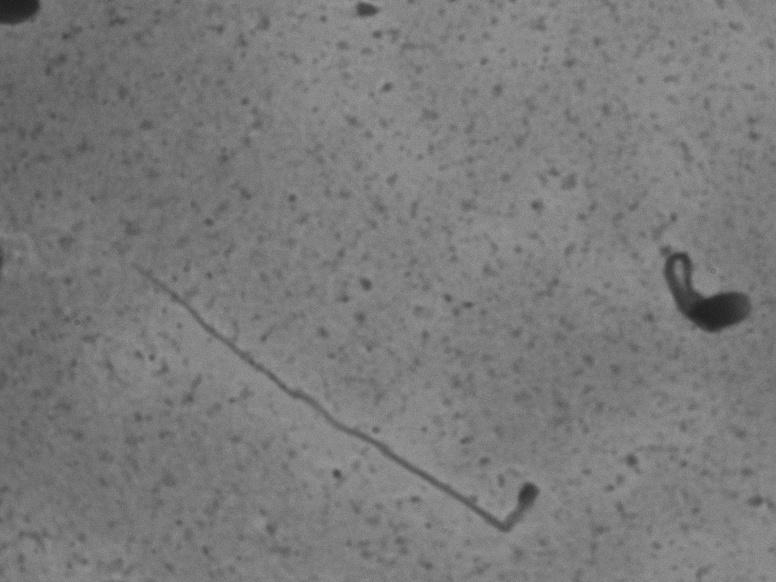Abnormal: (86, 260, 575, 542), (648, 229, 757, 349)
